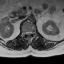CCS_normal: (28, 30, 30, 38)
LFS_normal: (32, 30, 34, 35)
LLS_normal: (30, 30, 32, 36)
RFS_normal: (24, 30, 26, 36)
RLS_normal: (26, 30, 28, 36)
